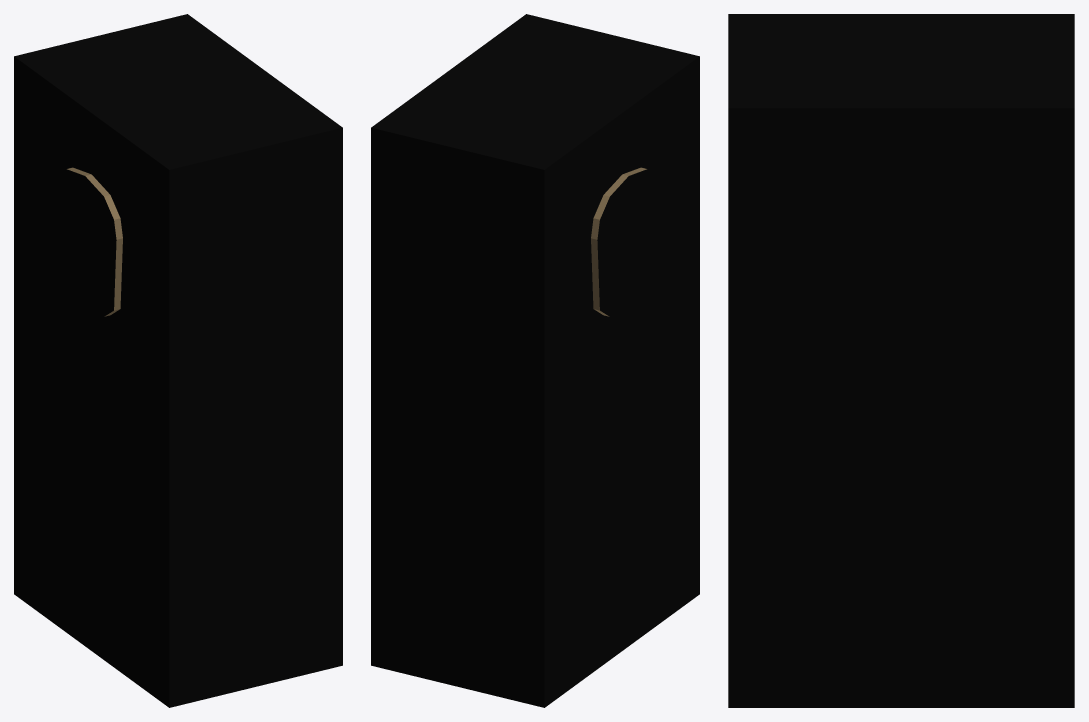
Rendered from mounted-xeric-s-talisman.gltf.
3 renders of one model, left to right at view 1: azimuth 30°, elevation 25°; view 2: azimuth 150°, elevation 25°; view 3: azimuth 270°, elevation 25°, orthographic. The views are drawn at different scales.
Size of the model in its own units: 83 by 237 by 124.
2 materials, 2 textured.
